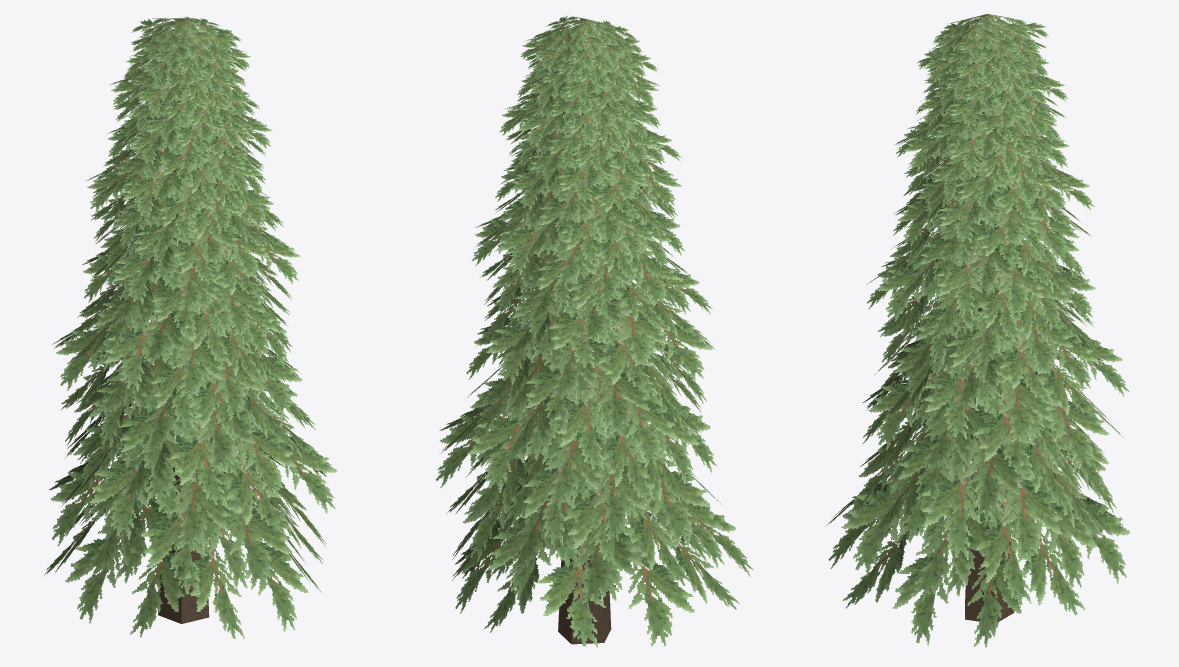
Rendered from tree.glb.
3 views of the same model, side by side, from view 1: azimuth 30°, elevation 25°; view 2: azimuth 150°, elevation 25°; view 3: azimuth 270°, elevation 25° (orthographic). The views are drawn at different scales.
Visible parts, largest first — view 1: tree; view 2: tree; view 3: tree.
Boxes of the visible parts, box(x1,y1,x2,y2) form: tree: box(43, 16, 337, 638); tree: box(435, 15, 753, 647); tree: box(825, 14, 1130, 647).
Bounding box in the file's own units: 6.38 × 12.07 × 6.73.
Materials: 2 (2 with a texture image).
